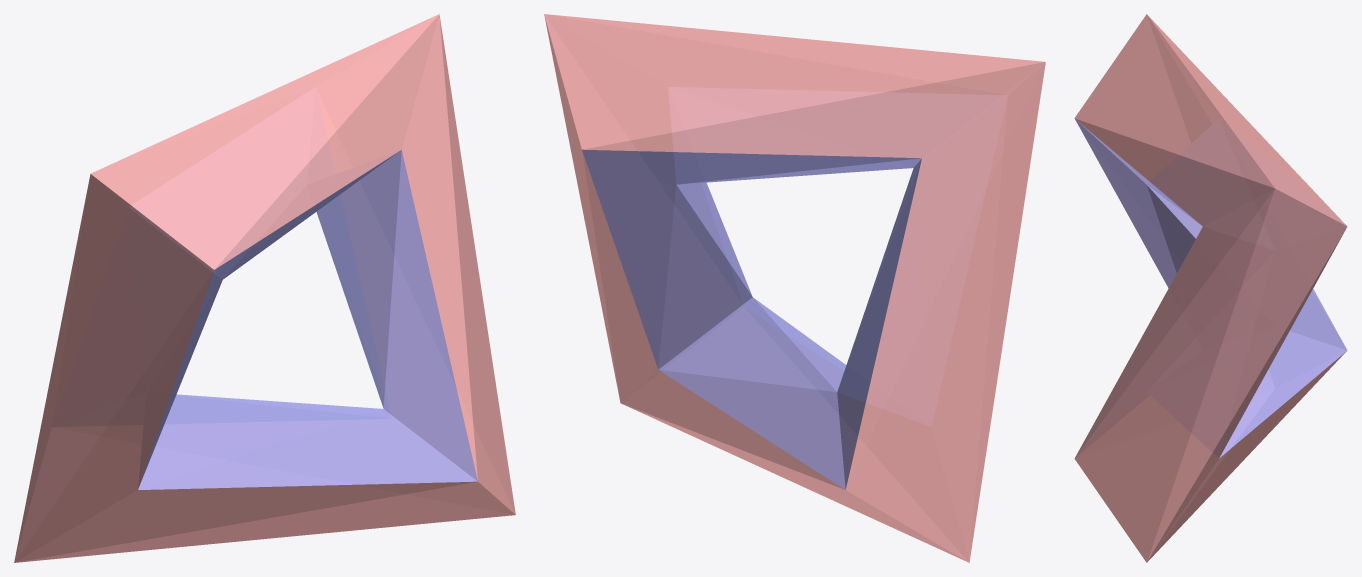
Rendered from Regular4TetragonalToroidSin.obj.
The picture shows the model from 3 angles, left to right: view 1: azimuth 30°, elevation 25°; view 2: azimuth 150°, elevation 25°; view 3: azimuth 270°, elevation 25°; orthographic projection. The views are drawn at different scales.
Size of the model in its own units: 2 by 2 by 1.32.
